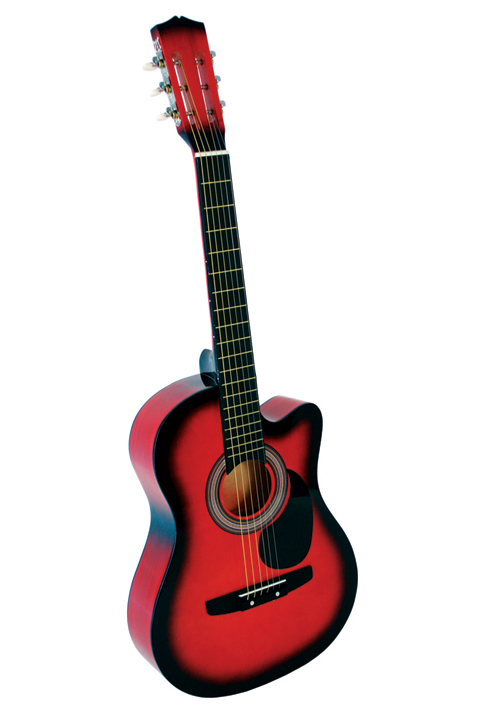guitar: (126, 15, 361, 699)
